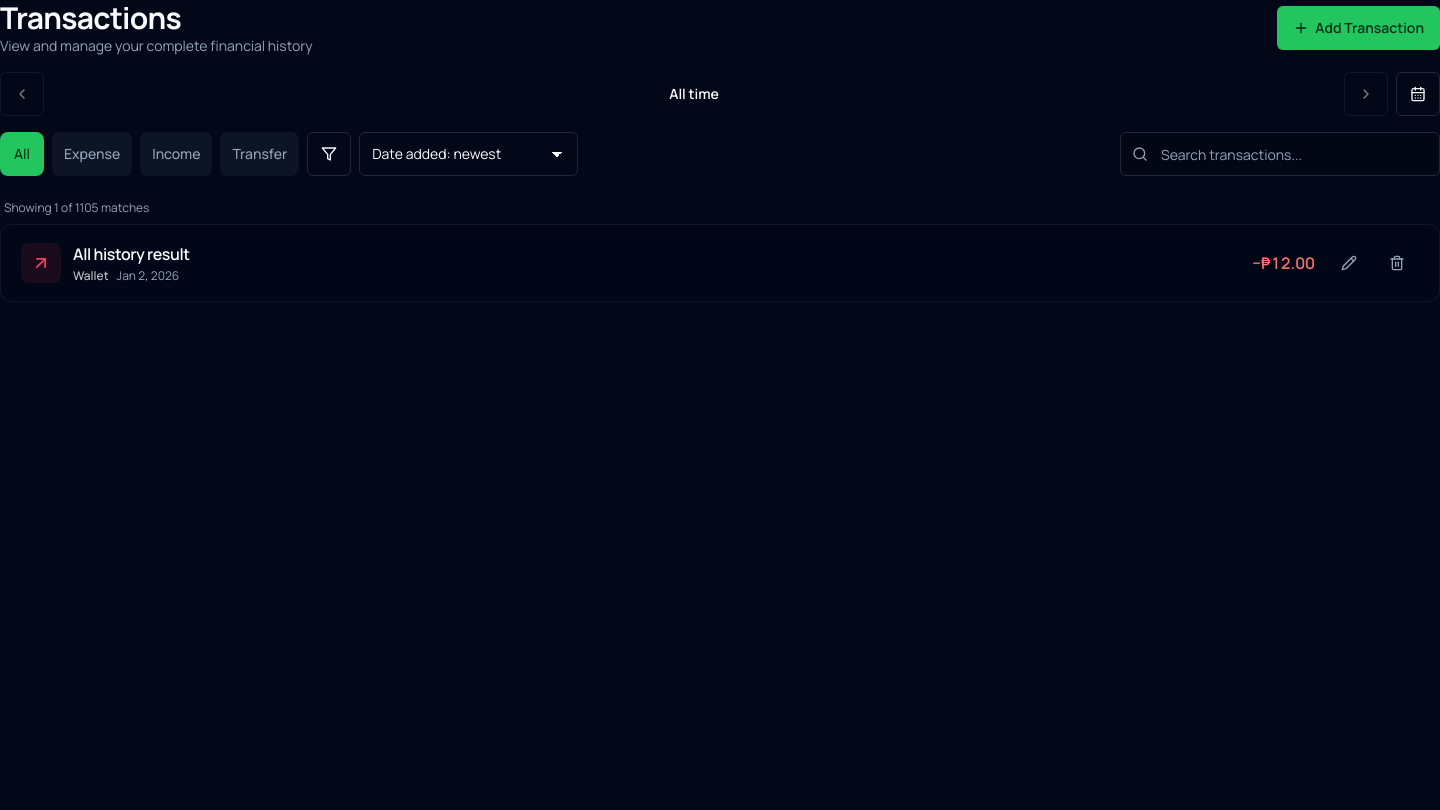
Test: period selection reloads history, drops a late previous response and resets to all-time
Expected: the text "All history result" is shown, [73,243,190,265]
Click the button named "Choose period".
click(1418, 94)  # box [1396,72,1439,116]
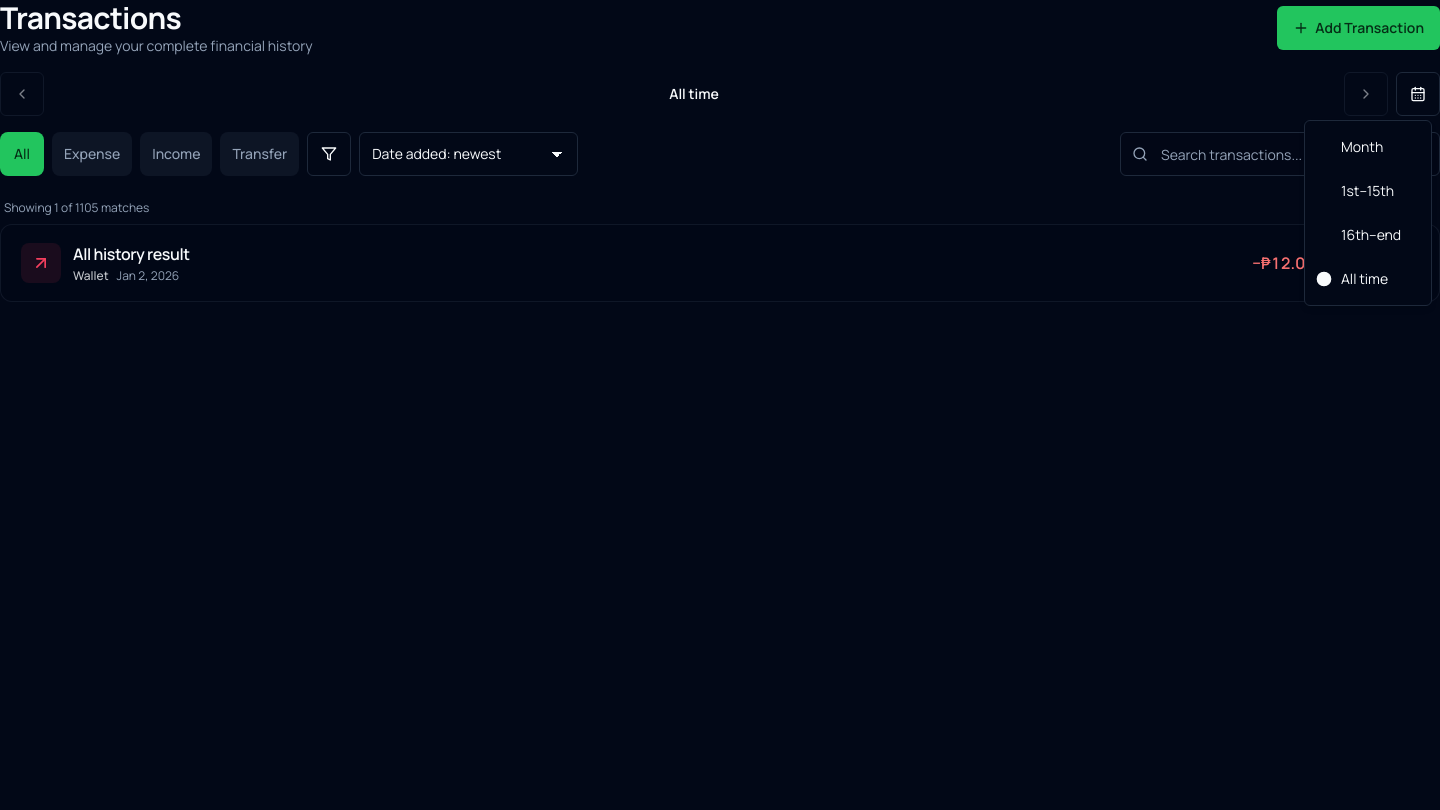
Click the menu item "Month".
click(1362, 146)  # box [1341,137,1383,156]
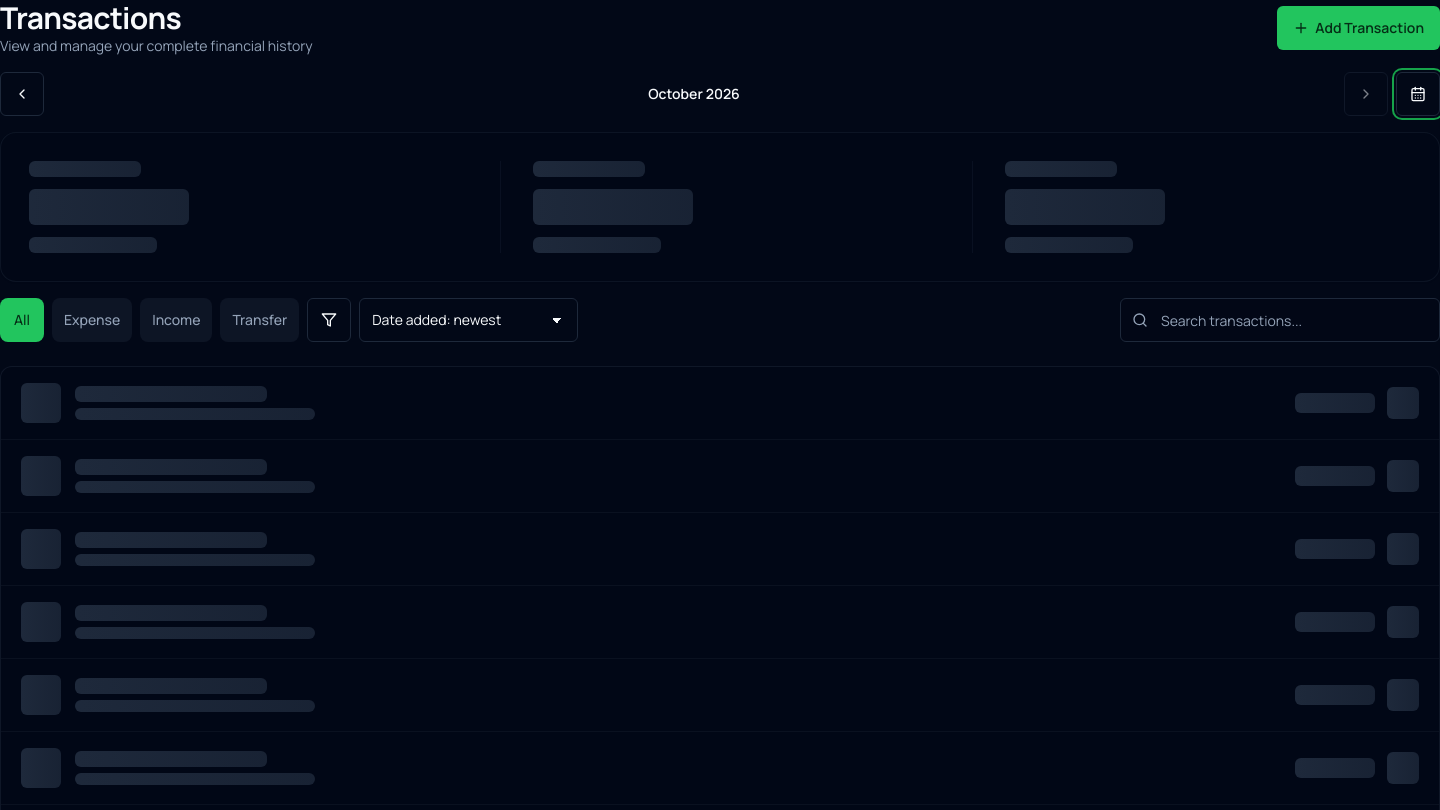
Click the button named "Previous period".
click(22, 94)  # box [0,72,44,116]
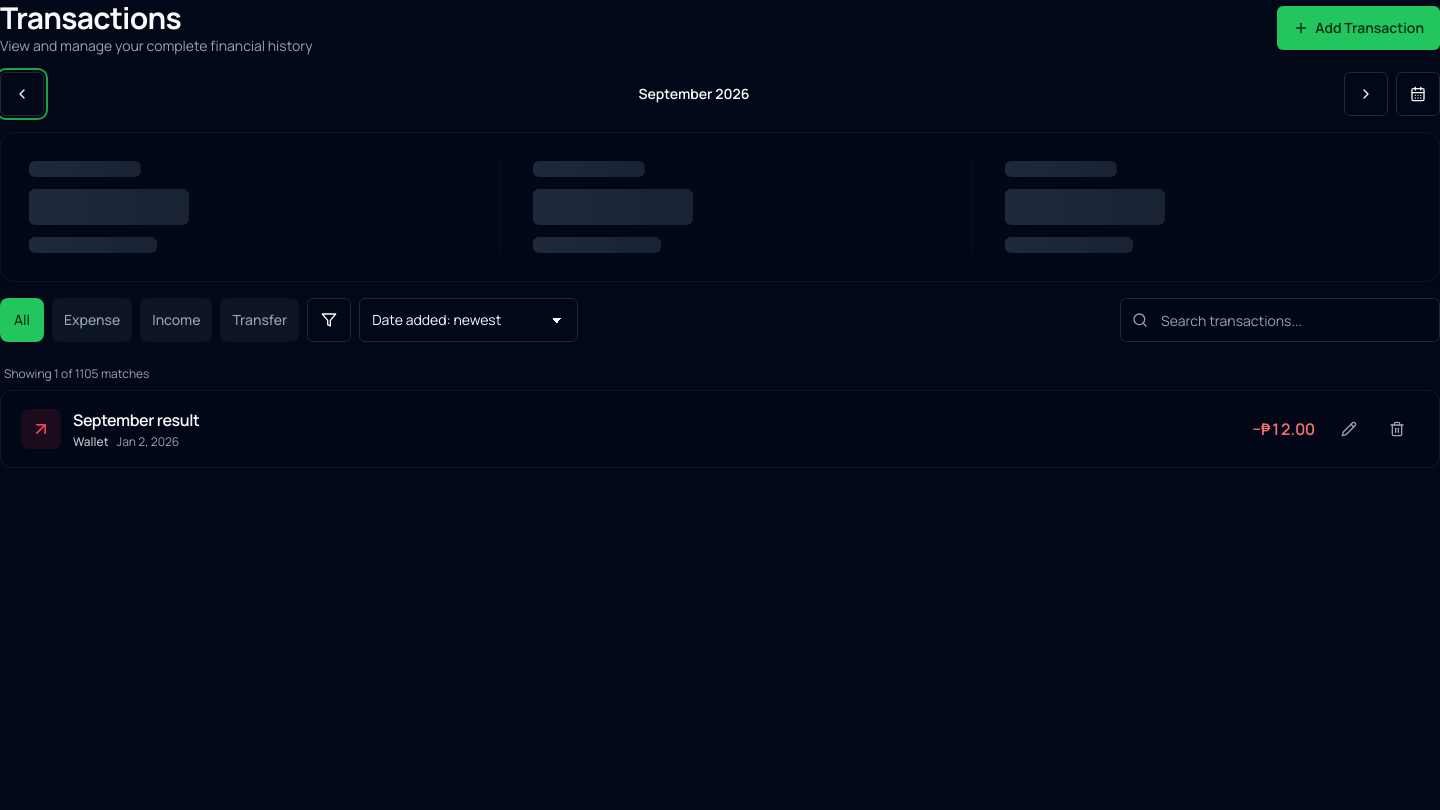
Result: the text "September result" is shown at [73,409,199,431]
Result: the text "Showing 1 of 1105 matches" is shown at [4,366,149,382]
Click the button named "Choose period".
click(1418, 94)  # box [1396,72,1439,116]
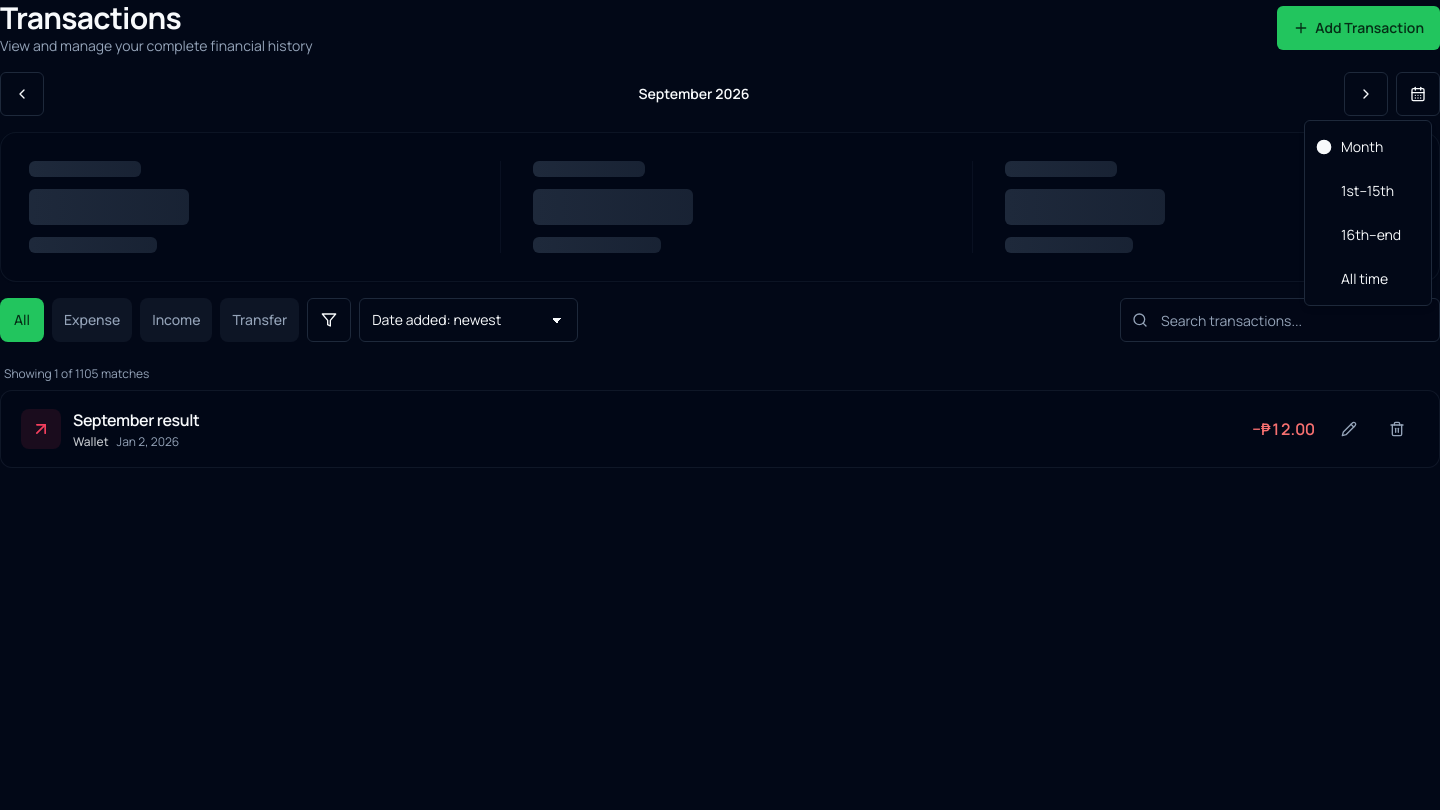
Click the menu item "All time".
click(1365, 278)  # box [1341,269,1388,288]
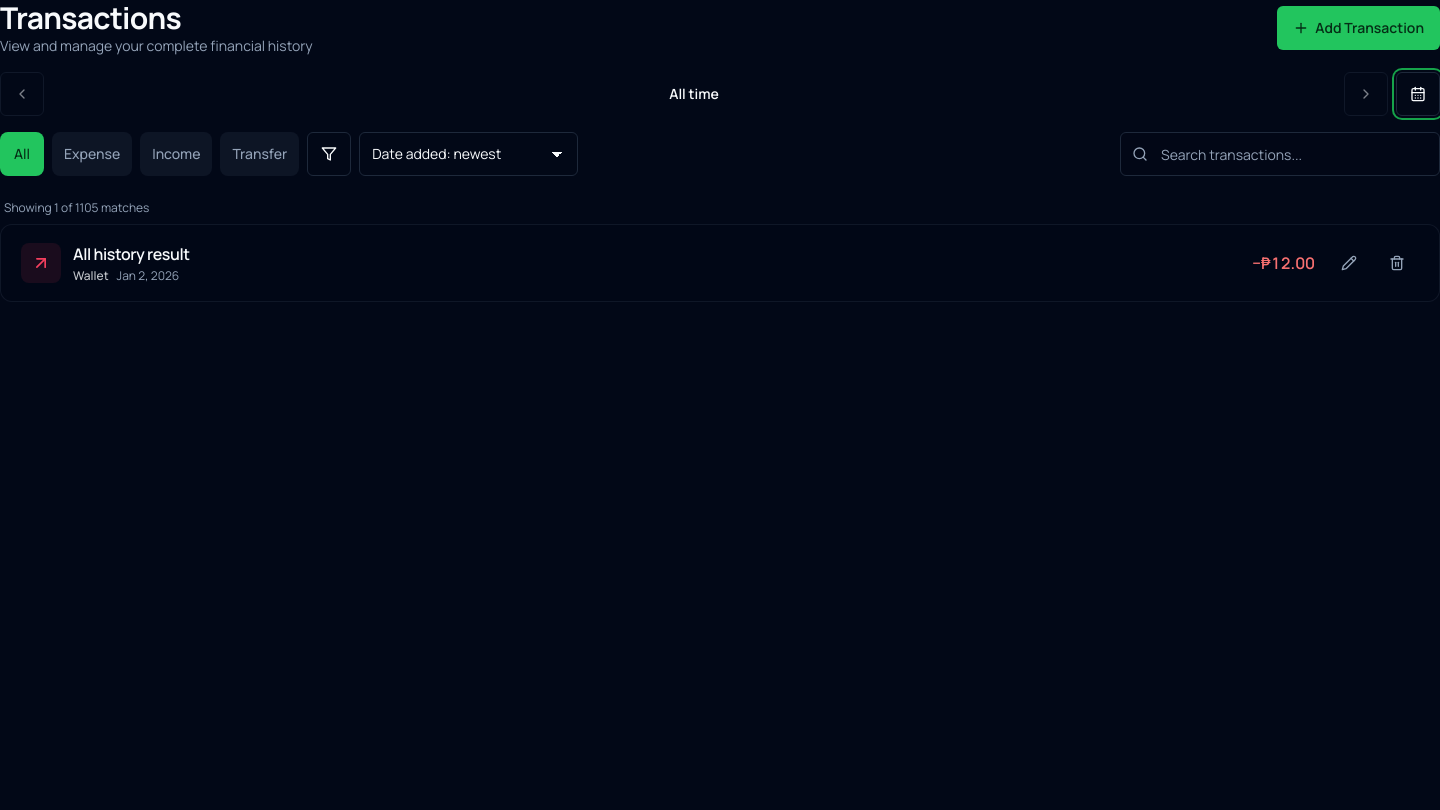
Result: the text "All history result" is shown at [73,243,190,265]
